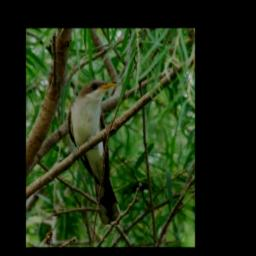Cuckoo: (68, 79, 122, 225)
